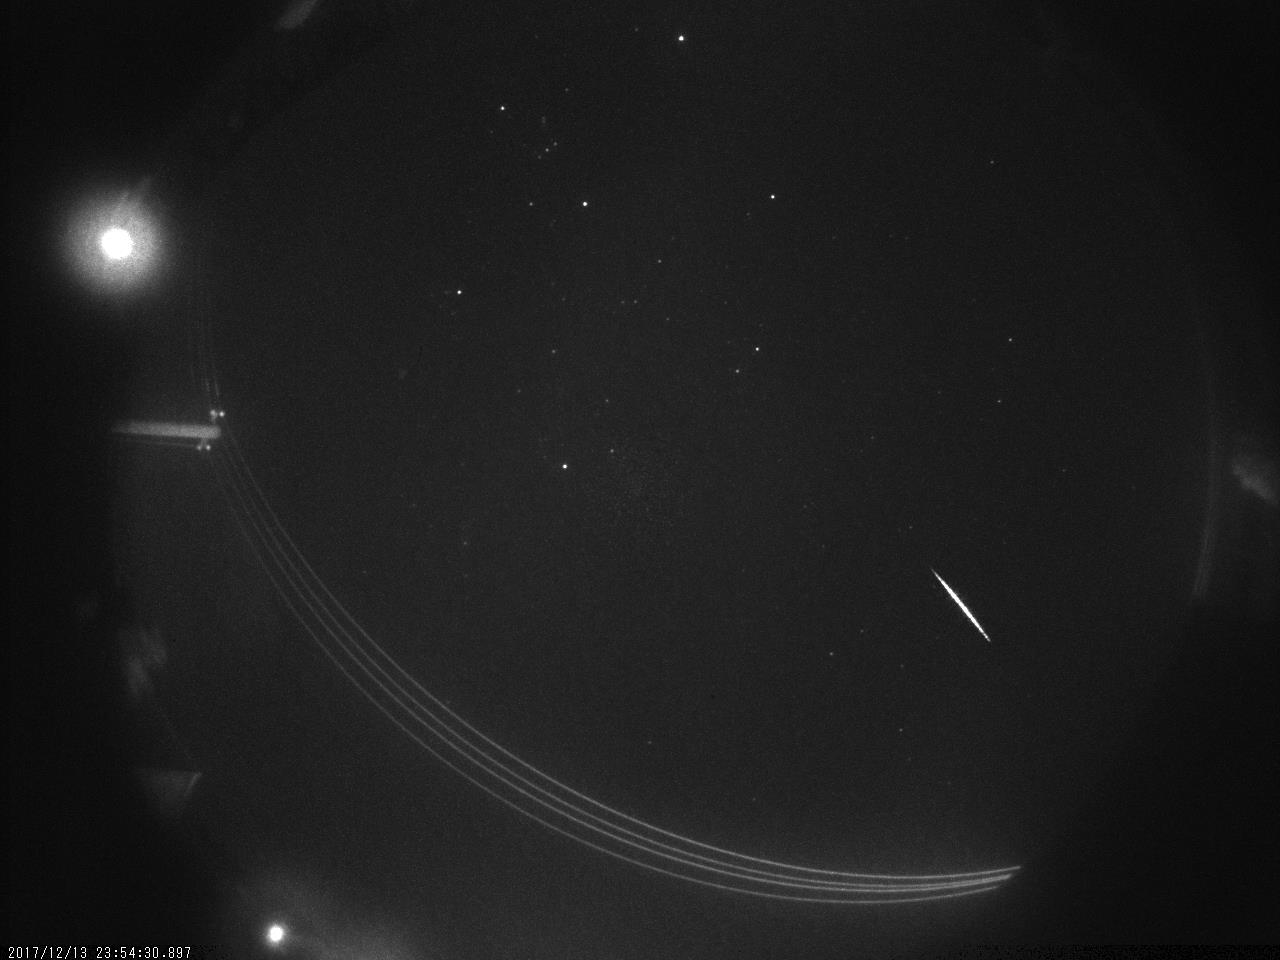meteor: (891, 544, 1025, 669)
